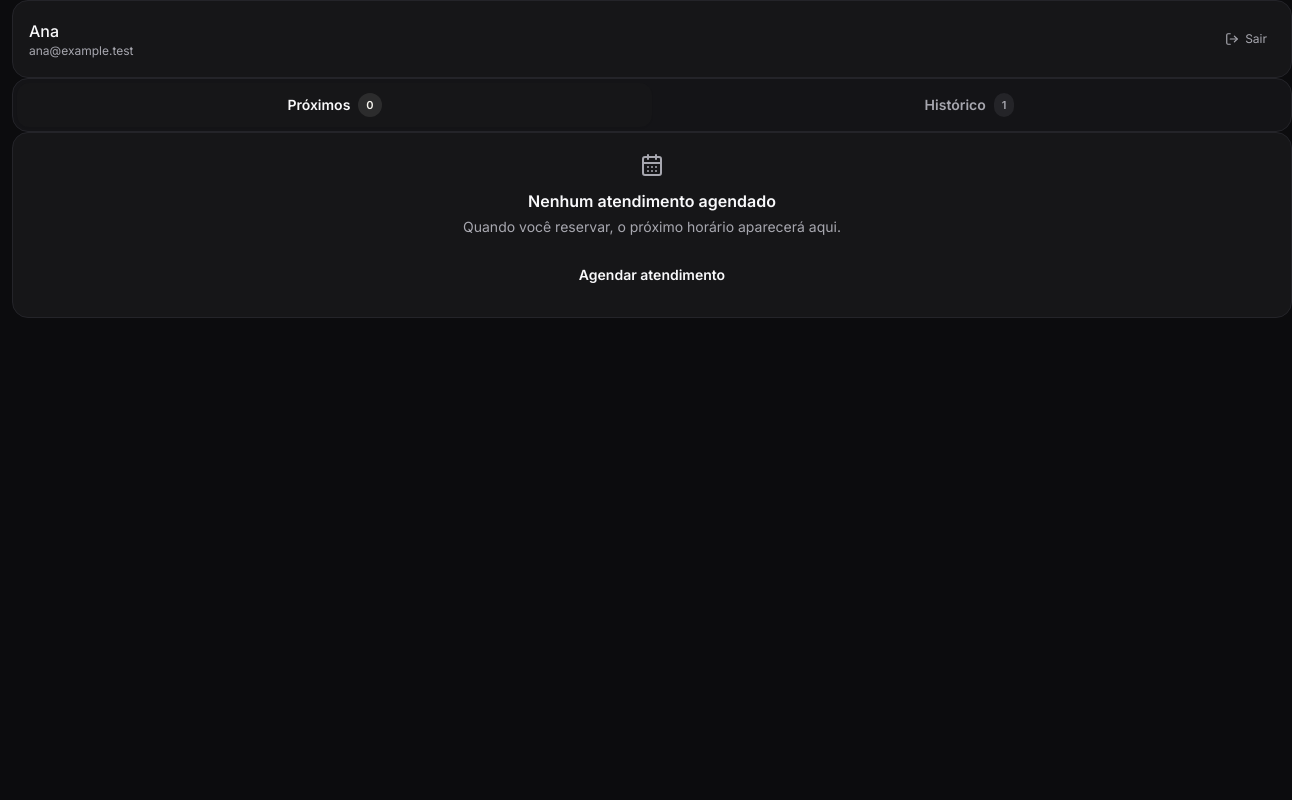
Test case: MinhasList › mostra o valor final pago sem apagar o preço inicial do serviço
The width and height of the screenshot is (1292, 800).
Click the tab "Histórico 1" at (970, 105), box [652,83,1287,127]
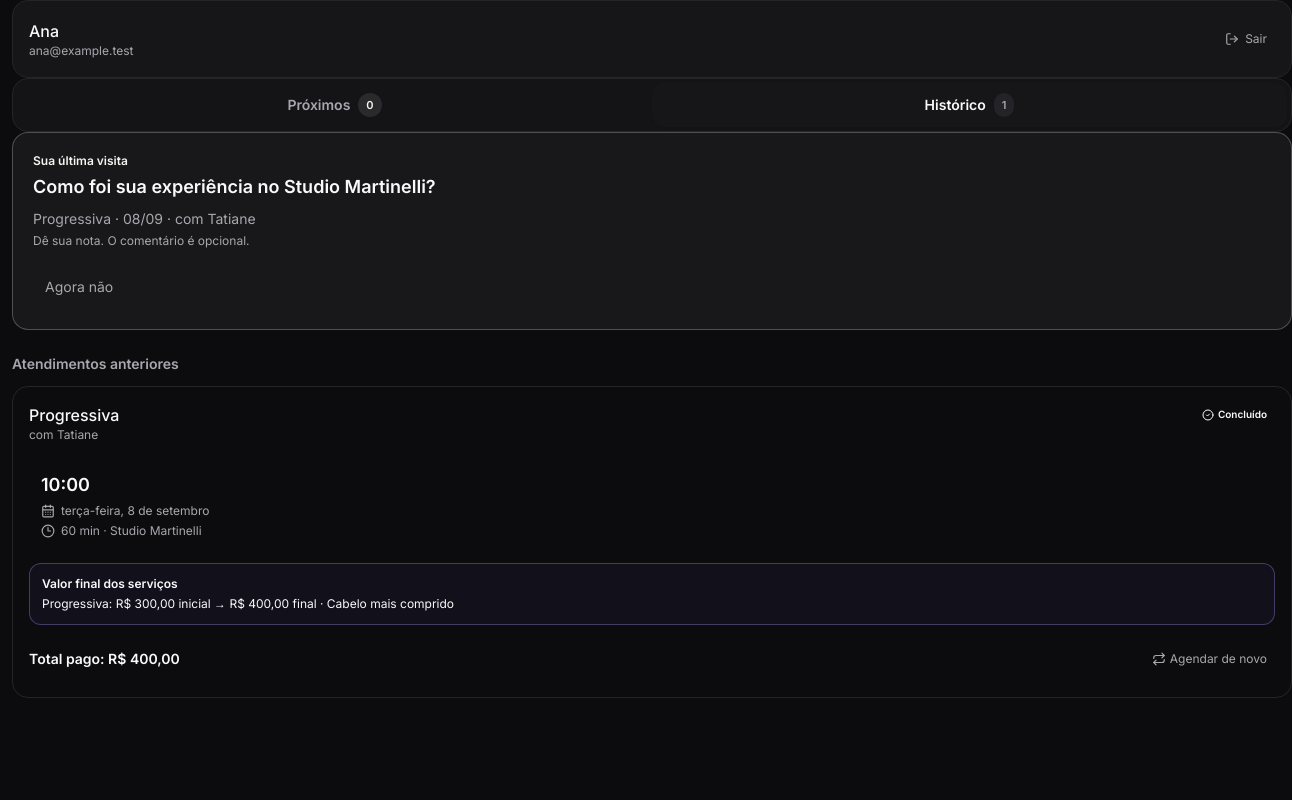
Result: the text "Total pago: R$ 400,00" is shown at [29,649,180,669]
